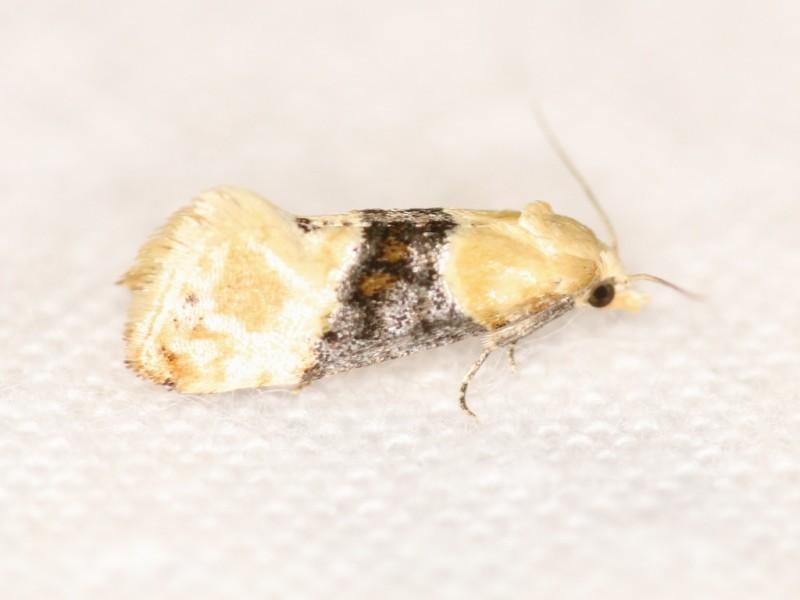Eupoecilia Ambiguella: (115, 100, 704, 421)
